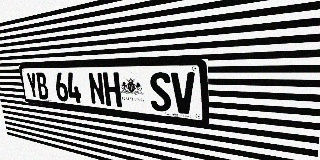4: (65, 72, 82, 103)
6: (54, 72, 69, 102)
B: (35, 72, 49, 100)
H: (103, 72, 122, 107)
N: (87, 72, 106, 106)
S: (149, 72, 172, 112)
V: (171, 72, 196, 115)
Y: (26, 72, 39, 99)
